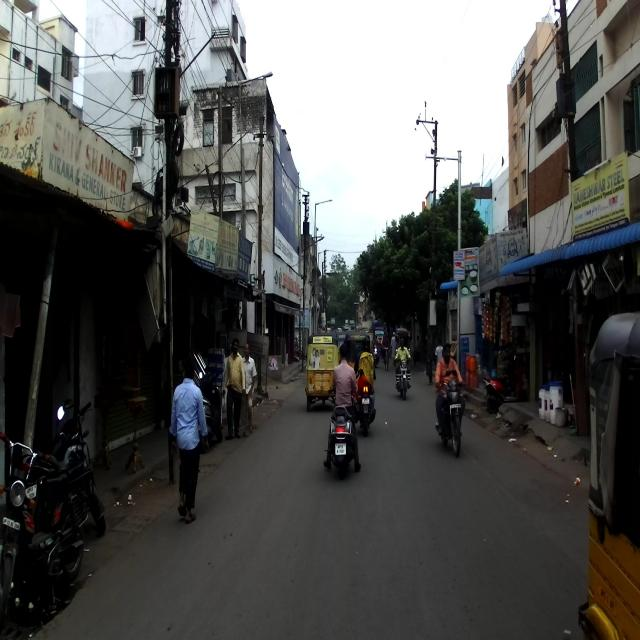autorickshaw: (576, 308, 640, 640)
motorcycle_Hero: (34, 399, 106, 539), (434, 368, 466, 457)
motorcycle_RoyalEnfield: (396, 350, 412, 403)
motorcycle_TVS: (0, 425, 93, 629)
motorcycle_bajaj: (357, 376, 378, 437)
scooter: (323, 386, 358, 480), (483, 354, 530, 413)
